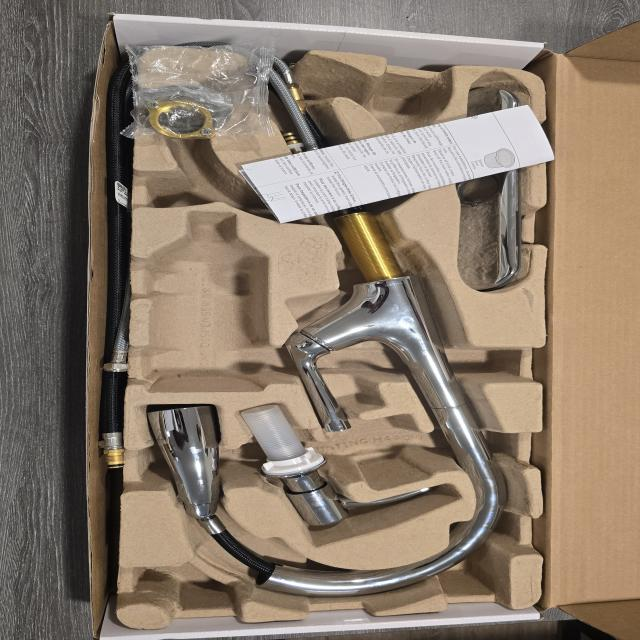1o: (147, 59, 510, 598)
2: (241, 402, 431, 527)
3m: (142, 210, 268, 395)
4o: (456, 87, 524, 288)
5m: (373, 83, 450, 147)
6: (119, 45, 280, 140)
7m: (144, 149, 259, 210)
8: (237, 103, 555, 224)
